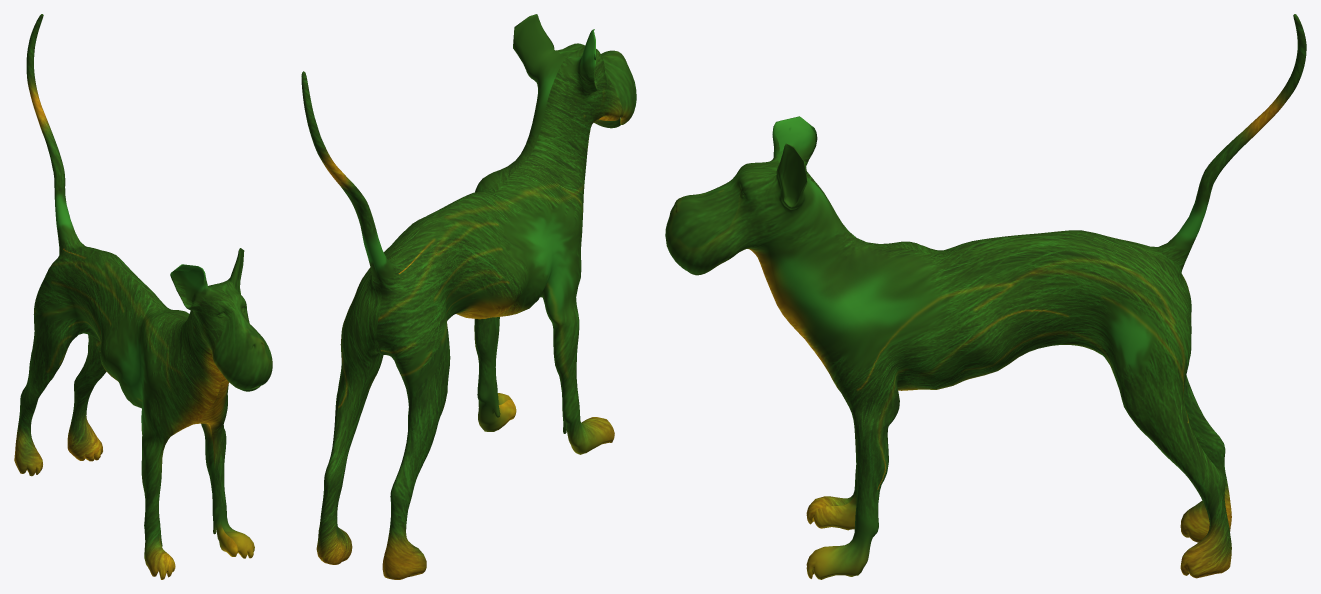
File: Volstar_v1.FBX
3 views of the same model, side by side, from view 1: azimuth 30°, elevation 25°; view 2: azimuth 150°, elevation 25°; view 3: azimuth 270°, elevation 25° (orthographic). The views are drawn at different scales.
Parts seen in each view (by area): view 1: Dog; view 2: Dog; view 3: Dog.
Part boxes in pixels (left/top/right/bottom): Dog: left=14, top=14, right=272, bottom=579; Dog: left=301, top=14, right=636, bottom=579; Dog: left=665, top=14, right=1306, bottom=579.
Bounding box in the file's own units: 5.27 × 20.75 × 21.76.
